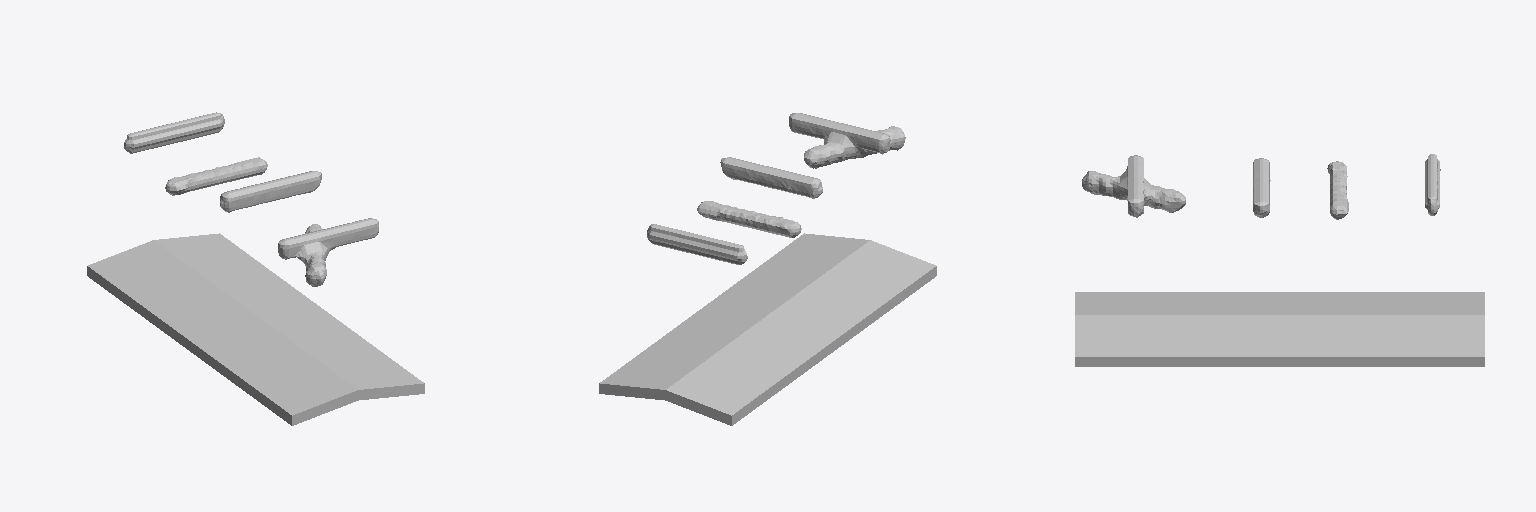
The model's file is Watersim_000004.obj.
3 renders of one model, left to right at view 1: azimuth 30°, elevation 25°; view 2: azimuth 150°, elevation 25°; view 3: azimuth 270°, elevation 25°, orthographic.
Visible parts, largest first — view 1: Straße_Cube.007, Domain_Cube.006; view 2: Straße_Cube.007, Domain_Cube.006; view 3: Straße_Cube.007, Domain_Cube.006.
Part boxes in pixels (x1,y1,x2,y2): Straße_Cube.007: (87, 233, 424, 425); Domain_Cube.006: (124, 112, 378, 286); Straße_Cube.007: (599, 233, 936, 425); Domain_Cube.006: (647, 113, 905, 264); Straße_Cube.007: (1075, 292, 1484, 366); Domain_Cube.006: (1082, 154, 1440, 219).
Bounding box in the file's own units: 2.26 × 2.58 × 6.06.